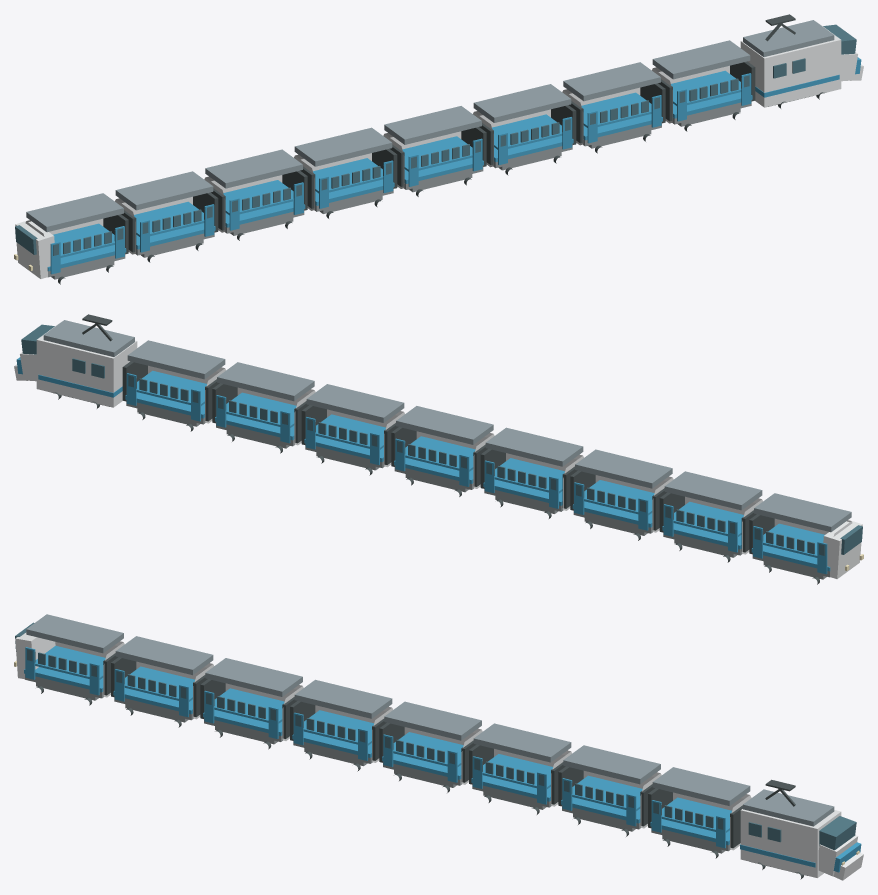
Rendered from comfortjet.glb.
The picture shows the model from 3 angles, top to bottom: view 1: azimuth 30°, elevation 25°; view 2: azimuth 150°, elevation 25°; view 3: azimuth 330°, elevation 25°; orthographic projection.
Visible parts, largest first — view 1: body_shell, comfortjet_car_5_roof, comfortjet_car_7_roof, comfortjet_car_1_roof, comfortjet_car_3_roof, comfortjet_car_2_roof, comfortjet_car_6_roof, comfortjet_car_8_roof, comfortjet_car_4_roof, roof, comfortjet_car_8_tail_cab_face, comfortjet_car_6_blue_window_ribbon (+15 smaller); view 2: body_shell, comfortjet_car_5_roof, comfortjet_car_7_roof, comfortjet_car_1_roof, comfortjet_car_3_roof, comfortjet_car_2_roof, comfortjet_car_6_roof, comfortjet_car_8_roof, comfortjet_car_4_roof, roof, comfortjet_car_8_tail_cab_face, comfortjet_car_6_blue_window_ribbon (+15 smaller); view 3: body_shell, comfortjet_car_1_roof, comfortjet_car_5_roof, comfortjet_car_7_roof, comfortjet_car_3_roof, comfortjet_car_4_roof, comfortjet_car_6_roof, comfortjet_car_2_roof, comfortjet_car_8_roof, roof, comfortjet_car_4_blue_window_ribbon, comfortjet_car_2_blue_window_ribbon (+17 smaller).
Boxes of the visible parts, x1,y1,x2,y2 form: body_shell: (740, 22, 841, 107); comfortjet_car_5_roof: (294, 127, 392, 166); comfortjet_car_7_roof: (115, 171, 213, 210); comfortjet_car_1_roof: (652, 40, 750, 79); comfortjet_car_3_roof: (473, 84, 571, 122); comfortjet_car_2_roof: (563, 62, 660, 101); comfortjet_car_6_roof: (205, 149, 302, 188); comfortjet_car_8_roof: (26, 193, 123, 232); comfortjet_car_4_roof: (384, 106, 481, 144); roof: (743, 20, 834, 56); comfortjet_car_8_tail_cab_face: (15, 220, 54, 278); comfortjet_car_6_blue_window_ribbon: (223, 180, 293, 215); body_shell: (36, 322, 137, 407); comfortjet_car_5_roof: (485, 427, 583, 466); comfortjet_car_7_roof: (664, 471, 762, 510); comfortjet_car_1_roof: (127, 340, 225, 379); comfortjet_car_3_roof: (306, 384, 404, 422); comfortjet_car_2_roof: (217, 362, 314, 401); comfortjet_car_6_roof: (575, 449, 672, 488); comfortjet_car_8_roof: (754, 493, 851, 532); comfortjet_car_4_roof: (396, 406, 493, 444); roof: (43, 320, 134, 356); comfortjet_car_8_tail_cab_face: (823, 520, 862, 578); comfortjet_car_6_blue_window_ribbon: (584, 480, 654, 515); body_shell: (740, 809, 841, 877); comfortjet_car_1_roof: (652, 767, 750, 806); comfortjet_car_5_roof: (294, 679, 392, 718); comfortjet_car_7_roof: (115, 636, 213, 675); comfortjet_car_3_roof: (473, 723, 571, 762); comfortjet_car_4_roof: (384, 701, 481, 740); comfortjet_car_6_roof: (205, 658, 302, 696); comfortjet_car_2_roof: (563, 745, 660, 784); comfortjet_car_8_roof: (26, 614, 123, 653); roof: (743, 789, 834, 826); comfortjet_car_4_blue_window_ribbon: (393, 732, 463, 766); comfortjet_car_2_blue_window_ribbon: (572, 775, 642, 810).
Size of the model in its own units: 14.51 by 1.32 by 0.791.
